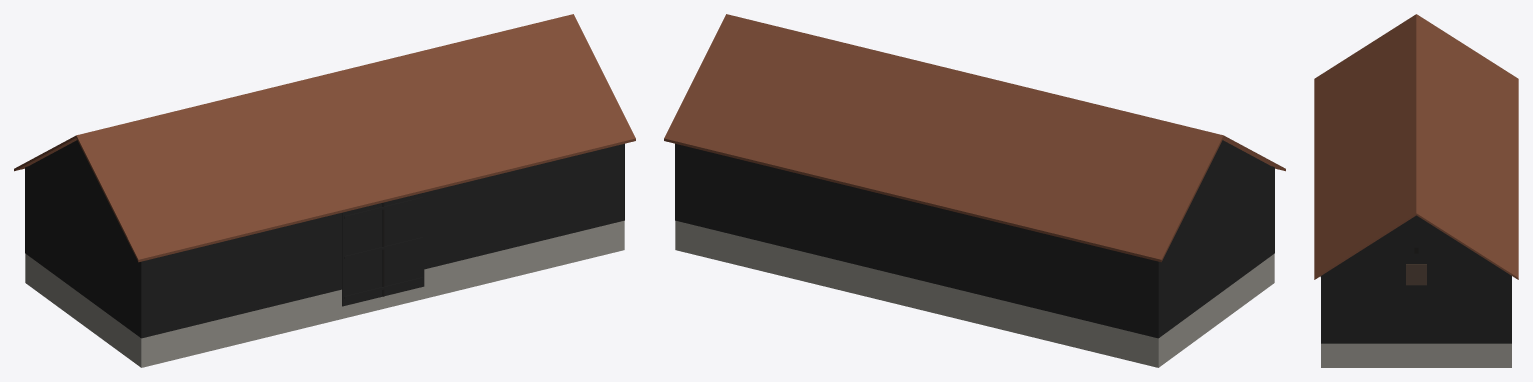
The model's file is context.farm.black_barn.glb.
3 views of the same model, side by side, from view 1: azimuth 30°, elevation 25°; view 2: azimuth 150°, elevation 25°; view 3: azimuth 270°, elevation 25° (orthographic). The views are drawn at different scales.
Visible parts, largest first — view 1: main__clad_743, main__timber_222, main__concrete_999; view 2: main__clad_743, main__timber_222, main__concrete_999; view 3: main__clad_743, main__timber_222, main__concrete_999, main__timber_543.
Boxes of the visible parts, x1=… form: main__clad_743: x1=14, y1=14, x2=635, y2=262; main__timber_222: x1=25, y1=140, x2=624, y2=338; main__concrete_999: x1=25, y1=220, x2=624, y2=367; main__clad_743: x1=664, y1=14, x2=1285, y2=262; main__timber_222: x1=675, y1=140, x2=1274, y2=338; main__concrete_999: x1=675, y1=220, x2=1274, y2=367; main__clad_743: x1=1314, y1=14, x2=1518, y2=279; main__timber_222: x1=1320, y1=215, x2=1511, y2=343; main__concrete_999: x1=1321, y1=343, x2=1511, y2=367; main__timber_543: x1=1406, y1=264, x2=1426, y2=285.
Size of the model in its own units: 24.7 by 9.1 by 10.7.
